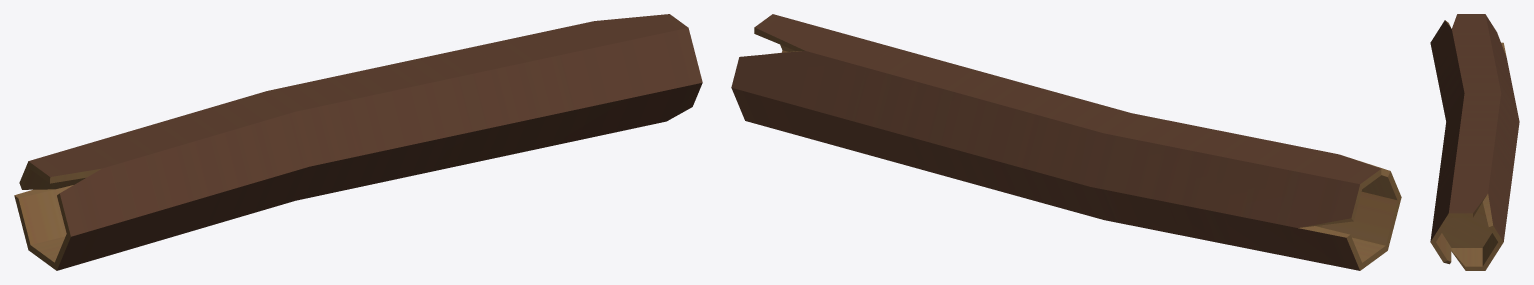
Rendered from Tree_Log_1.fbx.
The picture shows the model from 3 angles, left to right: view 1: azimuth 30°, elevation 25°; view 2: azimuth 150°, elevation 25°; view 3: azimuth 270°, elevation 25°; orthographic projection. The views are drawn at different scales.
Visible parts, largest first — view 1: pCylinder178; view 2: pCylinder178; view 3: pCylinder178.
Boxes of the visible parts, left/top/right/bottom form: pCylinder178: left=14, top=14, right=702, bottom=270; pCylinder178: left=731, top=14, right=1401, bottom=270; pCylinder178: left=1430, top=14, right=1519, bottom=270.
Size of the model in its own units: 450 by 60.62 by 85.08.
